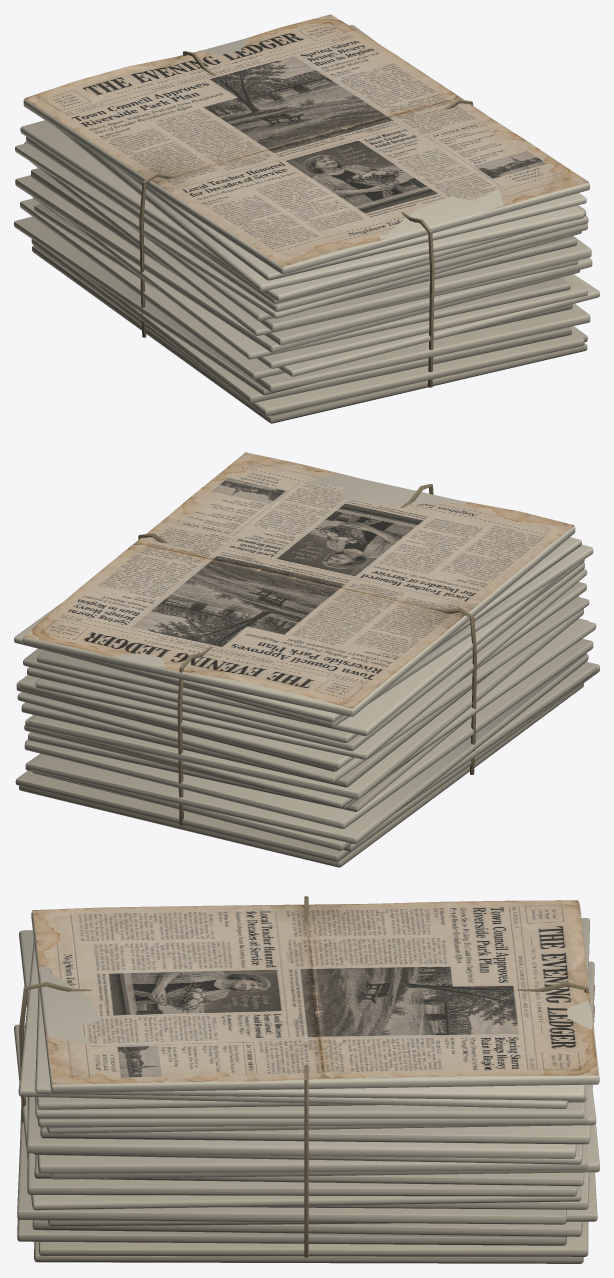
Rendered from newspaper_stack.glb.
The picture shows the model from 3 angles, top to bottom: view 1: azimuth 30°, elevation 25°; view 2: azimuth 150°, elevation 25°; view 3: azimuth 270°, elevation 25°; orthographic projection. The views are drawn at different scales.
Visible parts, largest first — view 1: newspaper_stack; view 2: newspaper_stack; view 3: newspaper_stack.
Boxes of the visible parts, x1,y1,x2,y2 form: newspaper_stack: (14,14,599,423); newspaper_stack: (14,452,599,867); newspaper_stack: (14,896,599,1263).
Bounding box in the file's own units: 0.3193 × 0.1467 × 0.4053.
Materials: 3 (1 with a texture image).
